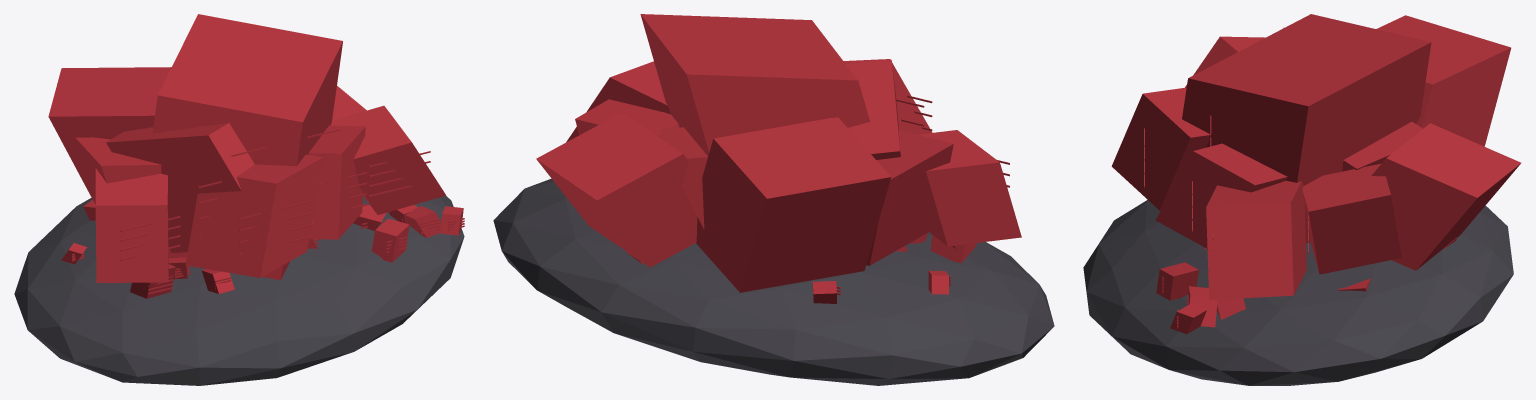
File: cinnabar.glb
3 renders of one model, left to right at view 1: azimuth 30°, elevation 25°; view 2: azimuth 150°, elevation 25°; view 3: azimuth 270°, elevation 25°, orthographic. The views are drawn at different scales.
Visible parts, largest first — view 1: Cinnabar; view 2: Cinnabar; view 3: Cinnabar.
Part boxes in pixels (bbox=[...]): Cinnabar: bbox=[14, 14, 464, 385]; Cinnabar: bbox=[493, 14, 1054, 385]; Cinnabar: bbox=[1083, 14, 1521, 385].
Size of the model in its own units: 3.96 by 2.34 by 3.09.
